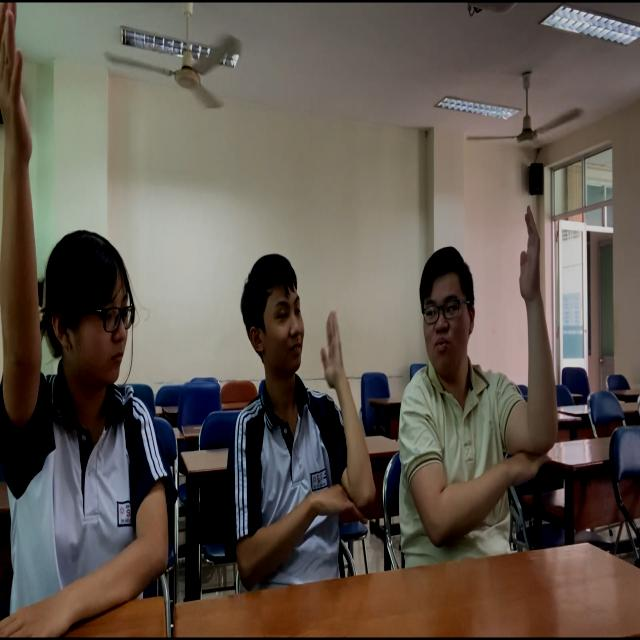raise_hand: (1, 2, 155, 640), (400, 201, 559, 556), (222, 243, 380, 580)
